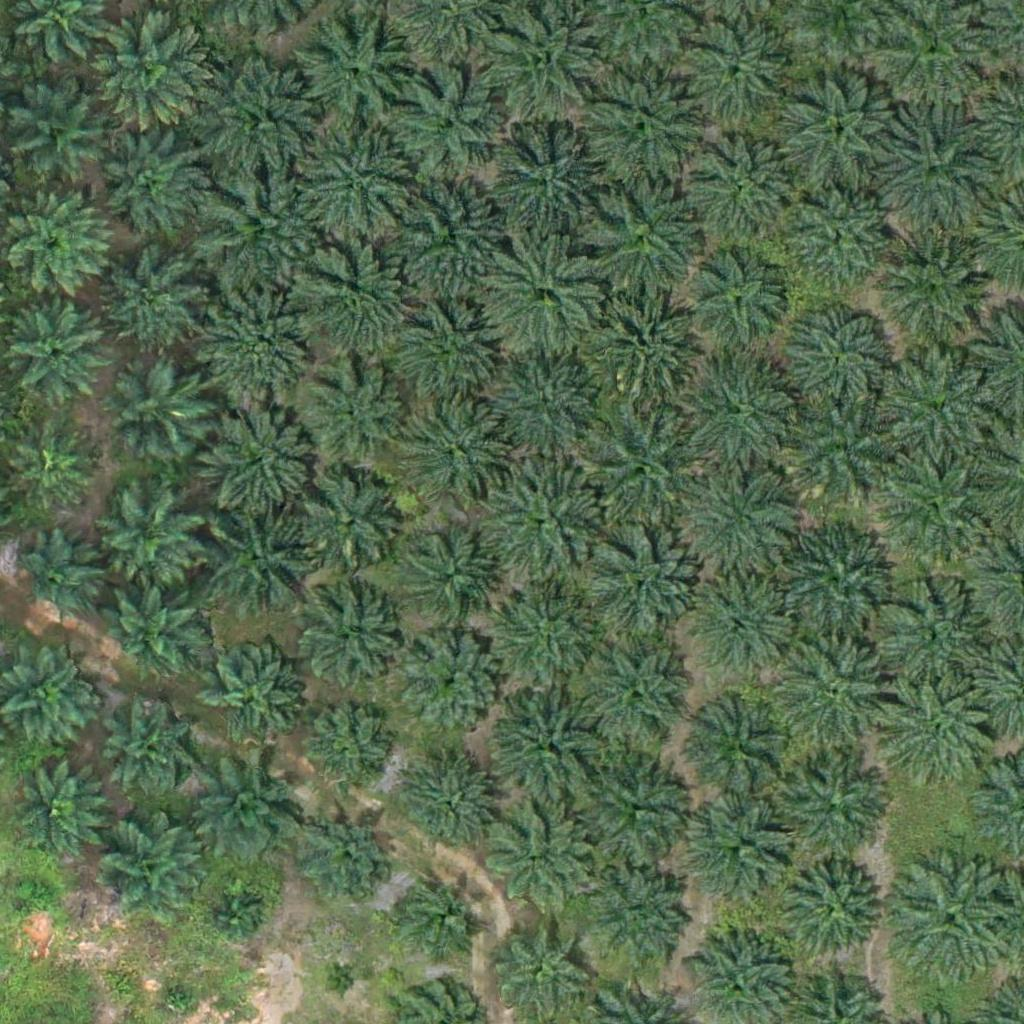Kelapa_Sawit: (89, 1, 214, 127), (85, 118, 210, 244), (202, 59, 327, 185), (202, 170, 327, 296), (868, 114, 993, 240), (779, 77, 904, 203), (478, 1, 603, 127), (486, 130, 611, 256), (579, 66, 704, 192), (199, 279, 324, 405), (290, 244, 415, 370), (483, 683, 608, 809), (480, 576, 605, 702), (480, 454, 605, 580), (482, 234, 607, 360), (590, 275, 715, 401), (580, 398, 705, 524), (581, 527, 706, 653), (574, 747, 699, 873), (676, 465, 801, 591), (677, 355, 802, 481), (774, 518, 899, 644), (770, 629, 895, 755), (878, 674, 1003, 800), (871, 576, 996, 702), (886, 856, 1011, 982), (297, 122, 422, 247), (194, 396, 319, 521), (680, 14, 793, 128), (693, 137, 806, 251), (483, 358, 596, 472), (294, 19, 407, 132), (394, 65, 507, 178), (203, 507, 316, 620), (194, 756, 307, 869), (579, 640, 692, 753), (785, 183, 898, 296), (878, 347, 991, 460), (780, 302, 893, 415), (787, 400, 900, 513), (581, 861, 694, 974), (588, 185, 700, 298), (686, 690, 798, 803), (878, 226, 990, 339), (775, 756, 887, 869), (483, 806, 595, 919), (101, 580, 201, 681), (202, 647, 302, 748), (299, 595, 399, 696), (297, 474, 397, 575), (302, 362, 402, 463), (410, 404, 510, 505), (403, 633, 503, 734), (399, 758, 499, 859), (688, 252, 788, 353), (886, 453, 986, 554), (485, 912, 585, 1013), (388, 867, 488, 968), (101, 821, 201, 922), (4, 84, 104, 184), (101, 256, 201, 356), (109, 364, 209, 464), (97, 490, 197, 590), (8, 306, 108, 406), (391, 297, 491, 397), (698, 585, 798, 685), (780, 858, 880, 958), (692, 802, 792, 902), (4, 761, 104, 861), (401, 184, 500, 284), (16, 534, 104, 622), (9, 426, 97, 514), (103, 704, 191, 792), (406, 538, 494, 626), (303, 812, 390, 901), (302, 705, 389, 793), (209, 889, 259, 940), (18, 875, 56, 913), (161, 982, 199, 1020), (323, 963, 361, 1001)
